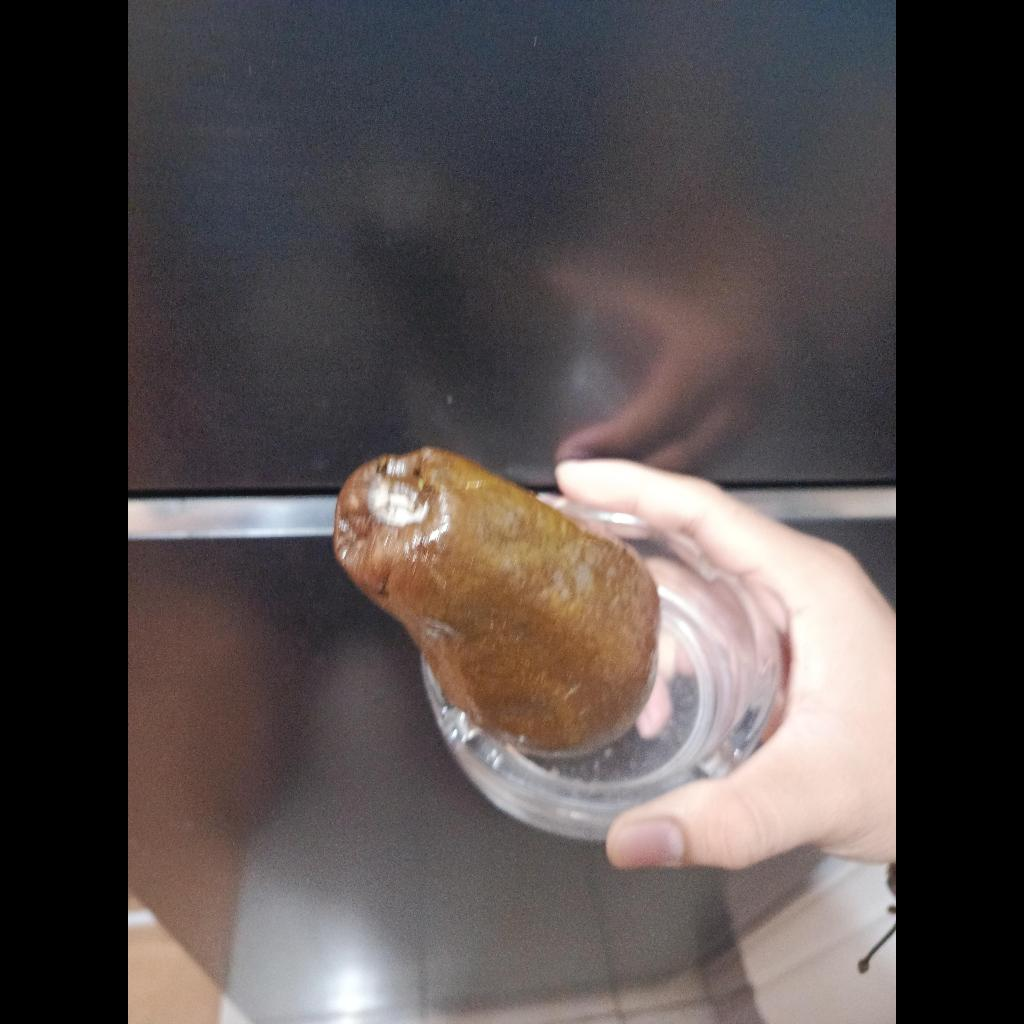stem end rot: (334, 447, 660, 752)
